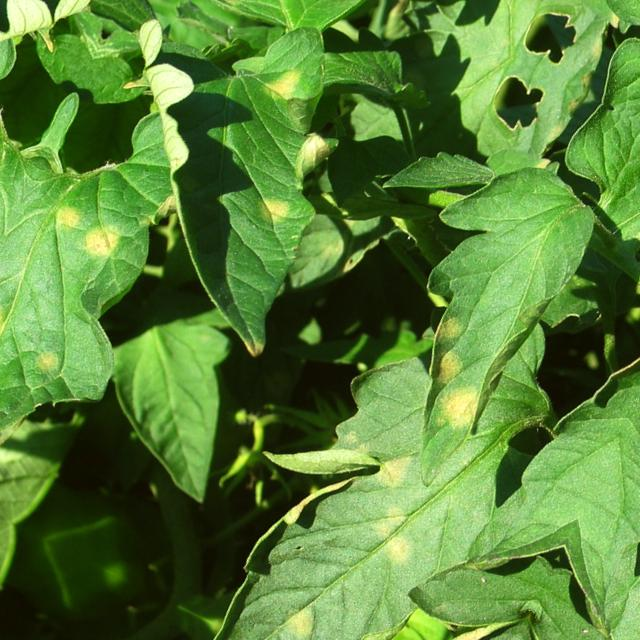Tomato mold leaf: (173, 276, 583, 640), (49, 0, 402, 347), (345, 142, 613, 505), (0, 69, 212, 526), (448, 216, 640, 632), (362, 525, 550, 640)
